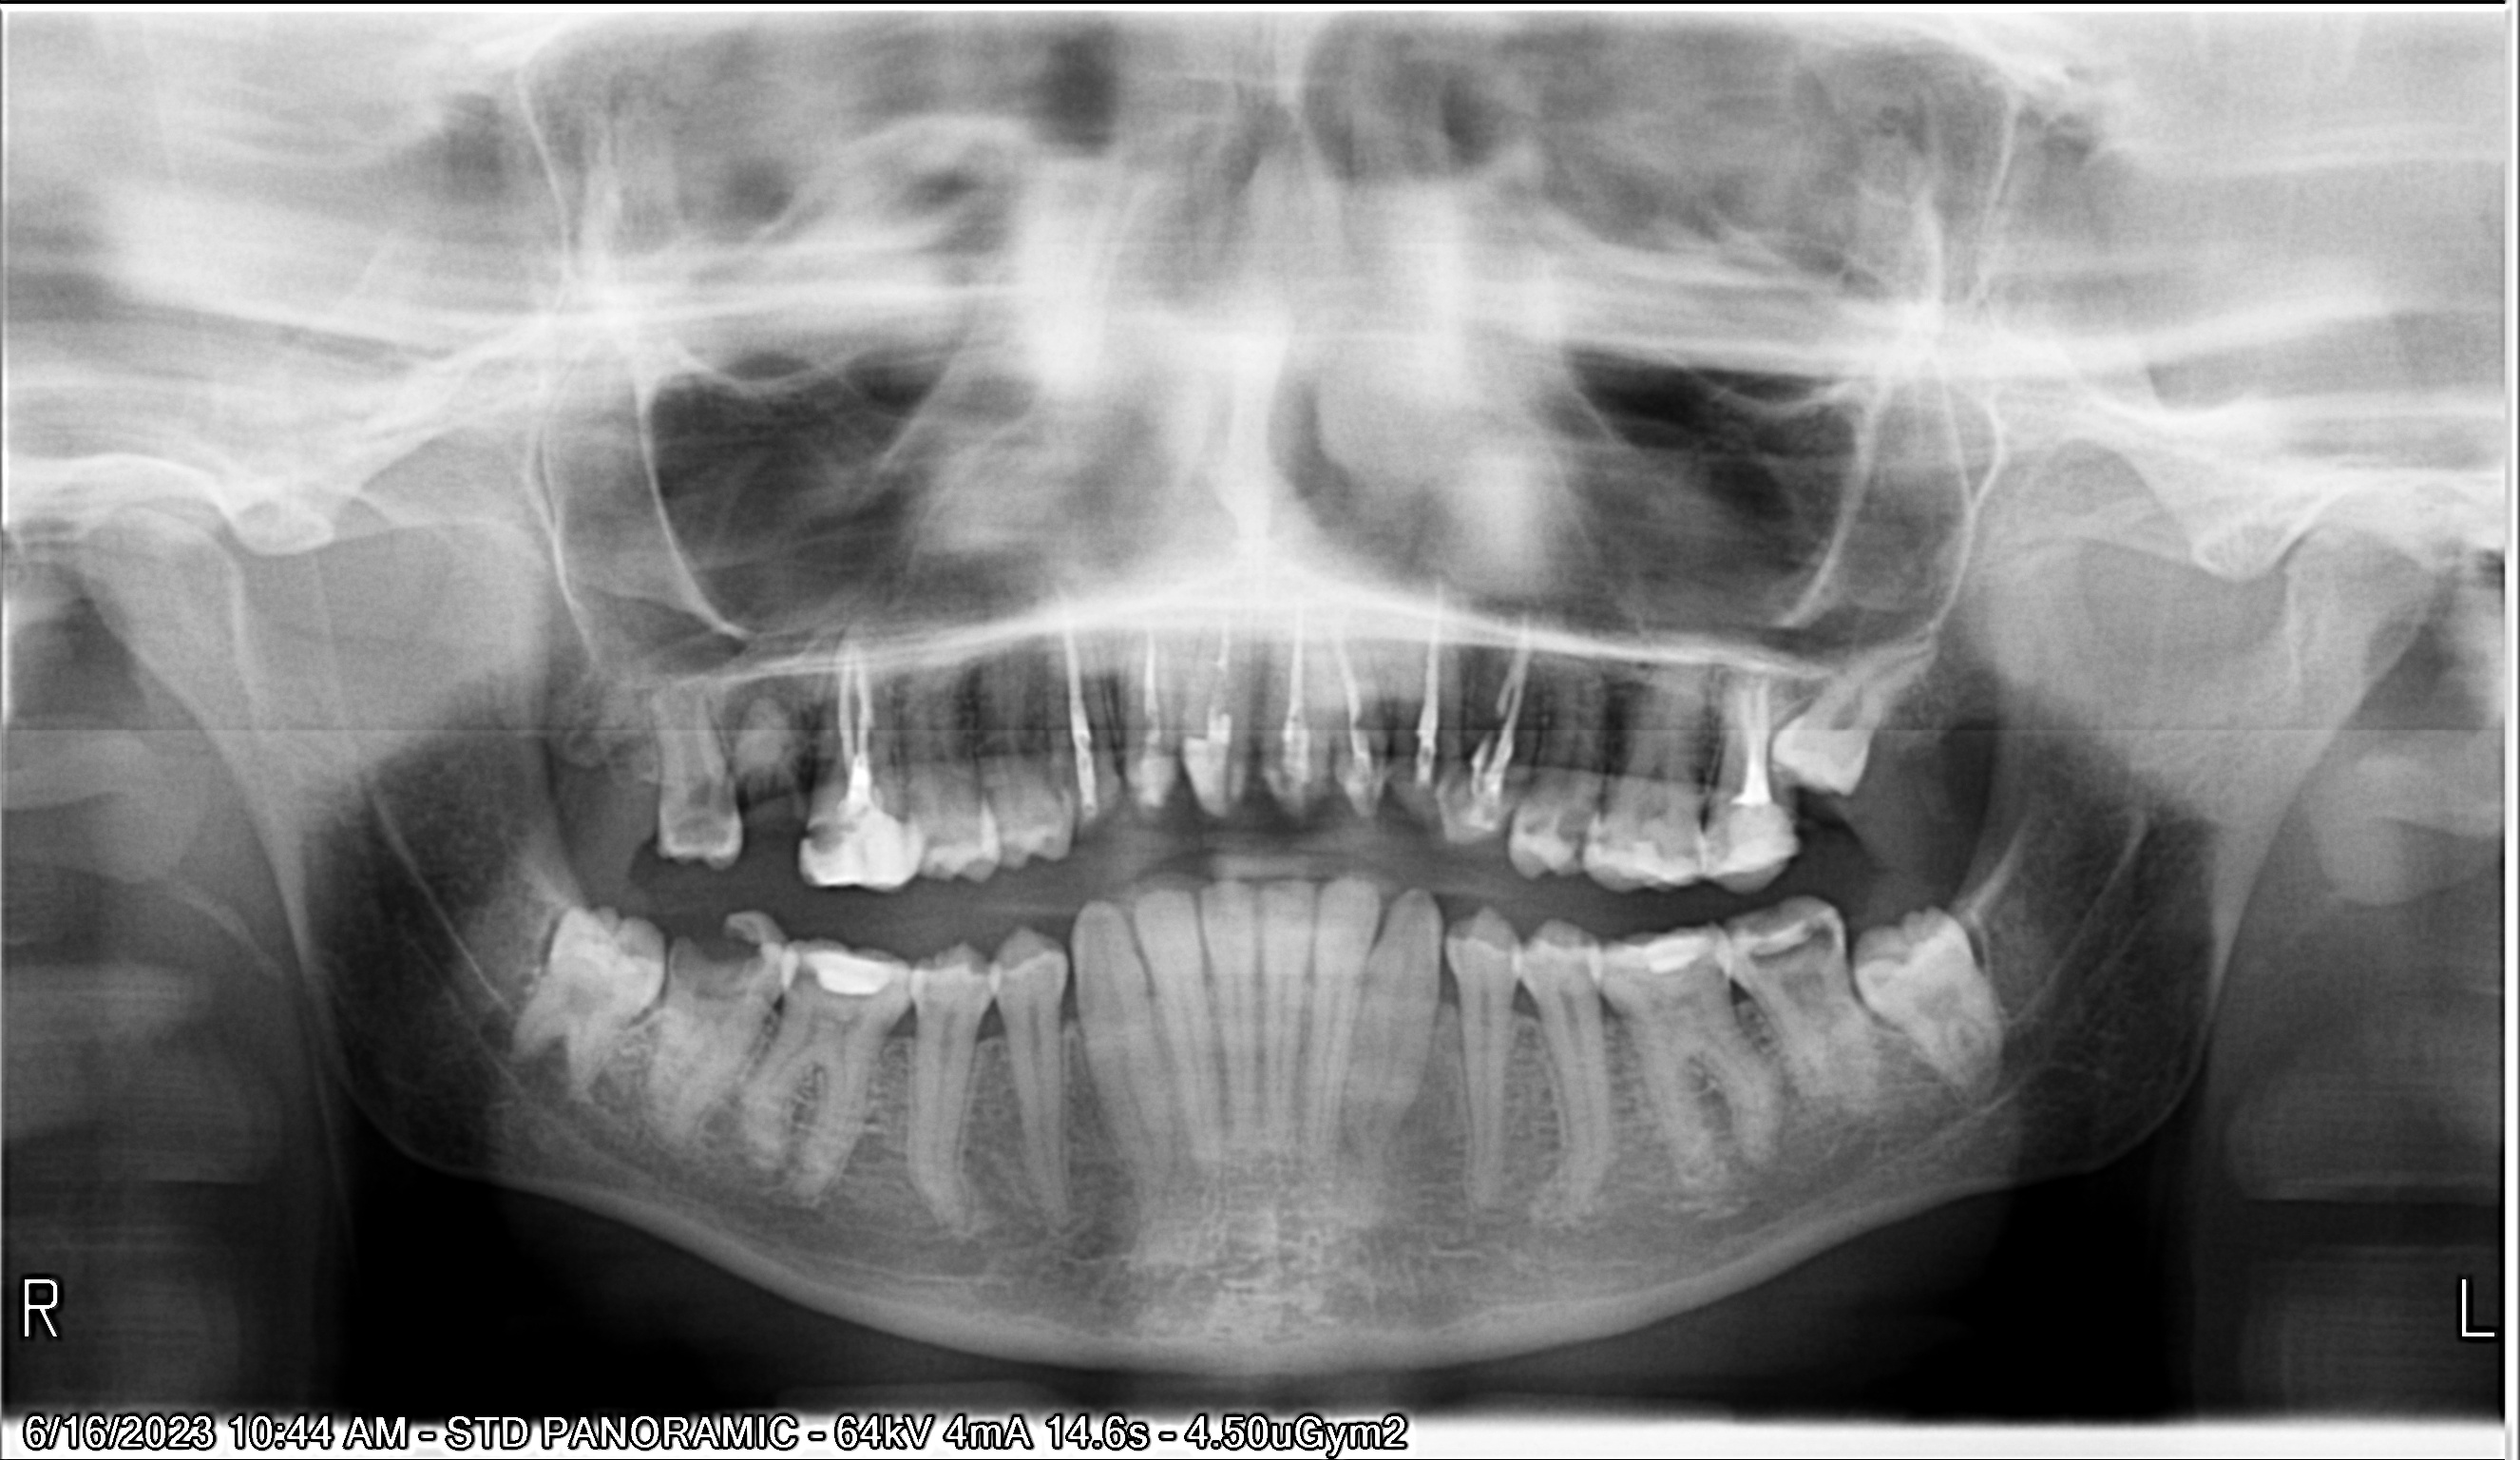API: (722, 674, 816, 747), (1414, 565, 1468, 622), (828, 610, 882, 657), (1504, 600, 1547, 640), (1040, 561, 1079, 605)
CAR: (669, 912, 764, 996), (1747, 912, 1846, 972), (669, 813, 731, 867), (792, 979, 874, 1017), (797, 812, 844, 853), (1558, 806, 1580, 860), (1019, 806, 1058, 834), (926, 827, 976, 846), (1589, 820, 1615, 855), (1525, 806, 1546, 845), (1681, 826, 1699, 864), (1573, 956, 1591, 985), (1711, 961, 1730, 987), (997, 972, 1011, 1005), (969, 977, 986, 999), (922, 977, 933, 1010)
END: (1042, 617, 1099, 758), (839, 650, 893, 787), (1325, 615, 1374, 763), (1492, 641, 1534, 789), (1200, 603, 1240, 742), (1733, 676, 1778, 793), (1280, 610, 1315, 760), (1410, 631, 1445, 754), (1132, 615, 1158, 753)
IMT: (1850, 892, 2029, 1111), (523, 902, 656, 1112), (1778, 633, 1942, 794)
OBT: (825, 801, 917, 885), (804, 933, 900, 991), (1711, 810, 1799, 869), (1634, 935, 1705, 979), (1619, 838, 1666, 886)
PRR: (1193, 746, 1254, 831), (1447, 765, 1499, 859), (1120, 751, 1179, 831), (1273, 751, 1330, 831), (1400, 763, 1443, 841), (1063, 763, 1112, 827), (1346, 763, 1386, 836)
ROT: (733, 706, 794, 794)
